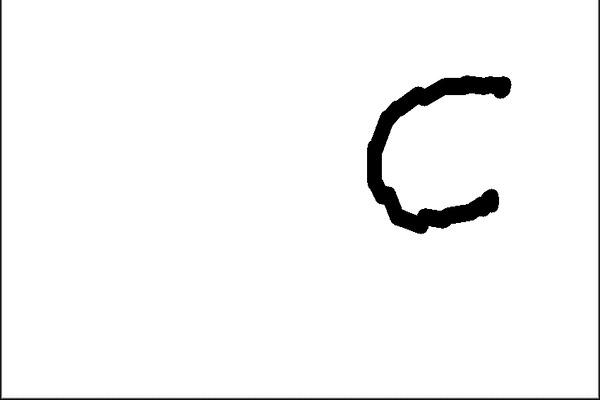C: (362, 69, 513, 237)
